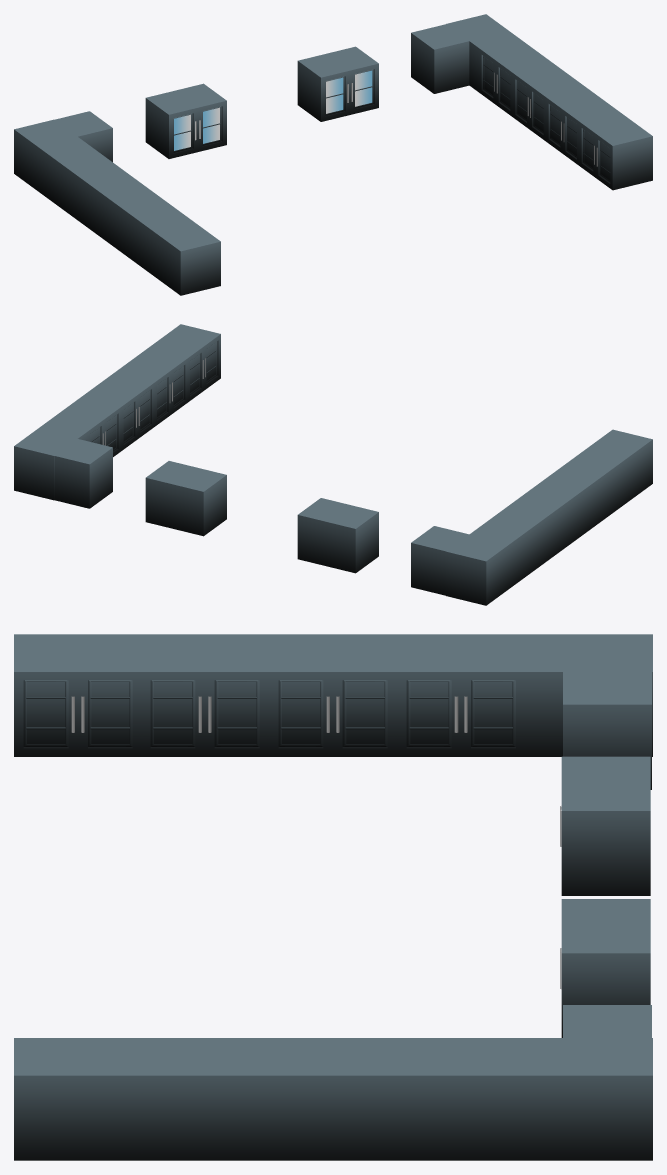
Rendered from Overhead.fbx.
3 views of the same model, one above another, from view 1: azimuth 30°, elevation 25°; view 2: azimuth 150°, elevation 25°; view 3: azimuth 270°, elevation 25° (orthographic). The views are drawn at different scales.
Parts seen in each view (by area): view 1: Overhead Module2.003; view 2: Overhead Module2.003; view 3: Overhead Module2.003.
Part boxes in pixels (box(x1,y1,x2,y2)): Overhead Module2.003: box(14, 14, 652, 295); Overhead Module2.003: box(14, 324, 652, 605); Overhead Module2.003: box(14, 634, 652, 1160).
Size of the model in its own units: 1255 by 113 by 768.
1 material, 1 textured.
